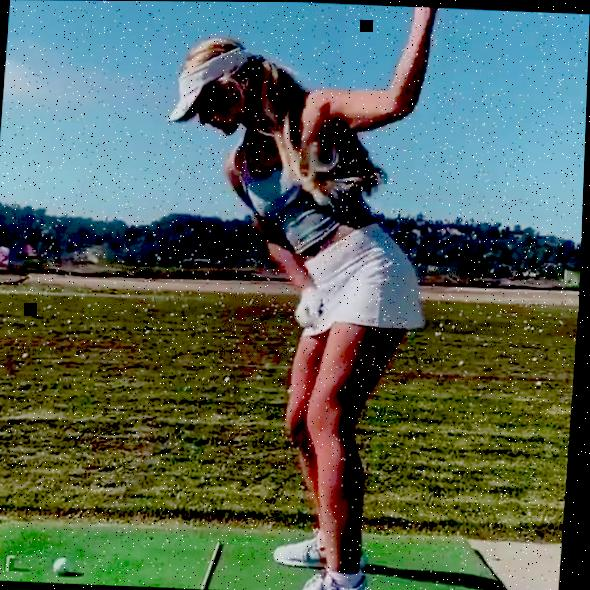GolfBall: (56, 555, 76, 576)
